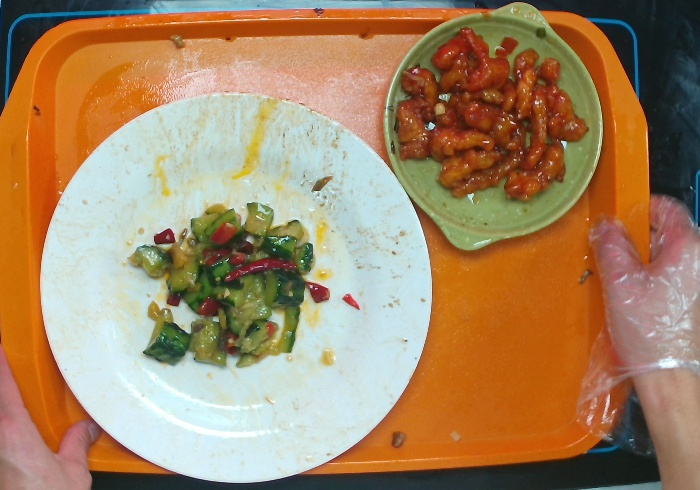NLDX-Da_Yuan_Pan: (38, 88, 434, 484)
NLDX-Lv_Hua_Shuang_Er_Die: (380, 1, 605, 251)
